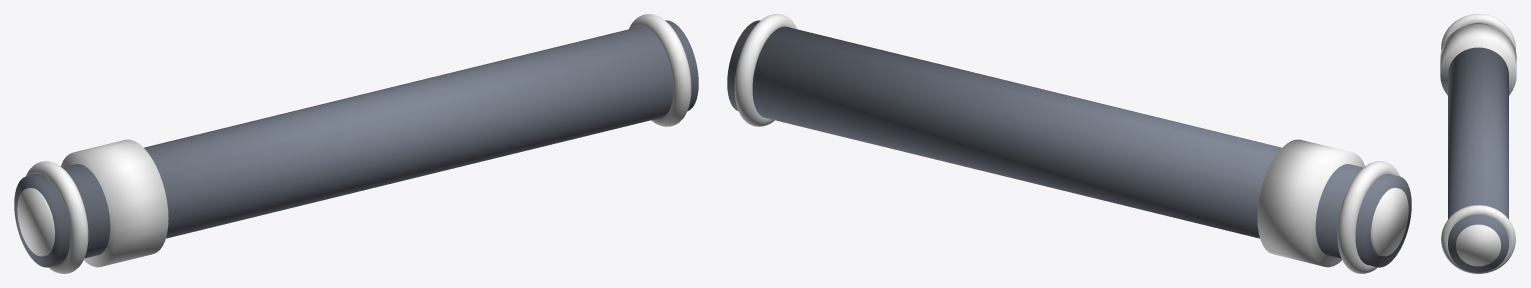
The model's file is metal-pipe.obj.
The picture shows the model from 3 angles, left to right: view 1: azimuth 30°, elevation 25°; view 2: azimuth 150°, elevation 25°; view 3: azimuth 270°, elevation 25°; orthographic projection. The views are drawn at different scales.
Visible parts, largest first — view 1: metal-pipe; view 2: metal-pipe; view 3: metal-pipe.
Part boxes in pixels (box(x1,y1,x2,y2)): metal-pipe: box(14, 14, 698, 273); metal-pipe: box(727, 14, 1411, 273); metal-pipe: box(1440, 14, 1516, 273).
Size of the model in its own units: 1.11 by 0.176 by 0.176.
